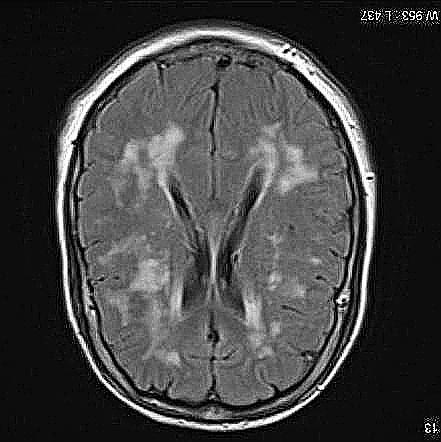Normal_Brain: (5, 3, 441, 442)
